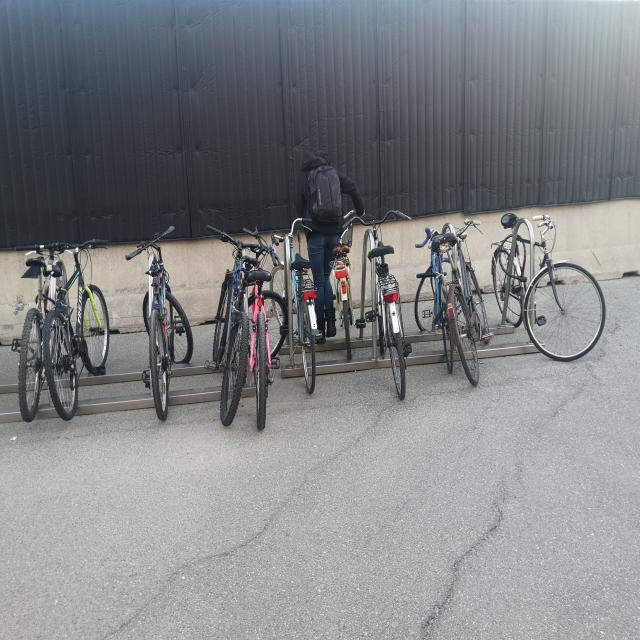Bicycle: (483, 195, 621, 381), (355, 186, 415, 407), (43, 234, 111, 426), (132, 212, 194, 418), (268, 215, 324, 409), (207, 209, 249, 428), (445, 214, 485, 410), (18, 238, 54, 431), (320, 190, 360, 362), (248, 214, 275, 428), (410, 215, 446, 370)
